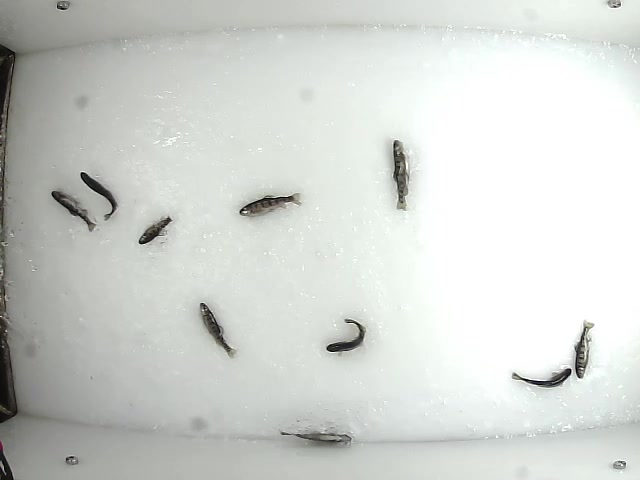fish: (198, 301, 239, 361), (78, 170, 119, 221), (49, 190, 98, 232), (234, 190, 304, 219), (387, 138, 412, 213), (321, 316, 366, 354), (510, 364, 571, 388), (278, 426, 355, 445), (573, 318, 595, 379), (136, 212, 173, 248)
